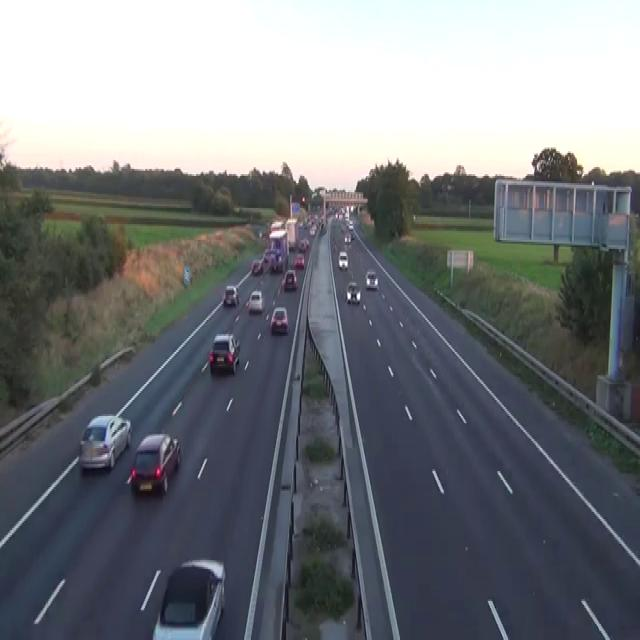Car: (152, 558, 225, 638), (129, 432, 181, 494), (78, 412, 131, 470), (209, 332, 240, 373), (270, 306, 288, 334), (222, 284, 239, 306), (247, 290, 263, 313), (281, 268, 297, 290), (346, 281, 360, 304), (365, 268, 378, 290), (269, 254, 283, 272), (250, 258, 263, 274), (338, 251, 348, 270), (294, 252, 304, 268), (269, 247, 281, 258), (299, 237, 309, 250), (271, 220, 284, 230), (263, 247, 270, 263), (288, 240, 295, 251), (344, 233, 351, 243), (320, 224, 326, 235), (331, 237, 336, 250), (347, 219, 353, 229), (309, 226, 316, 234), (446, 183, 454, 190), (304, 237, 309, 247), (350, 231, 354, 240), (258, 230, 262, 238)
Truck: (268, 228, 288, 272), (285, 217, 298, 249)
